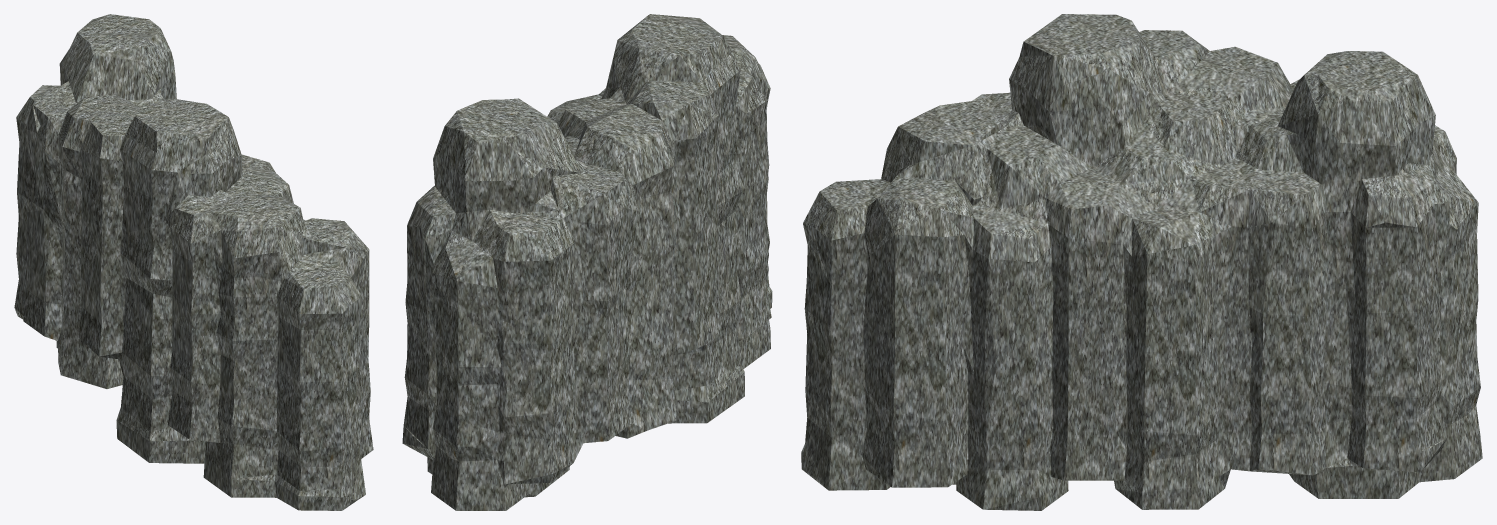
File: Babel Towers.fbx
3 views of the same model, side by side, from view 1: azimuth 30°, elevation 25°; view 2: azimuth 150°, elevation 25°; view 3: azimuth 270°, elevation 25° (orthographic). The views are drawn at different scales.
Parts seen in each view (by area): view 1: Babel Towers; view 2: Babel Towers; view 3: Babel Towers.
Boxes of the visible parts, bbox=[...] form: Babel Towers: bbox=[14, 14, 373, 510]; Babel Towers: bbox=[402, 14, 772, 510]; Babel Towers: bbox=[801, 14, 1482, 510].
Size of the model in its own units: 606 by 993 by 1492.
